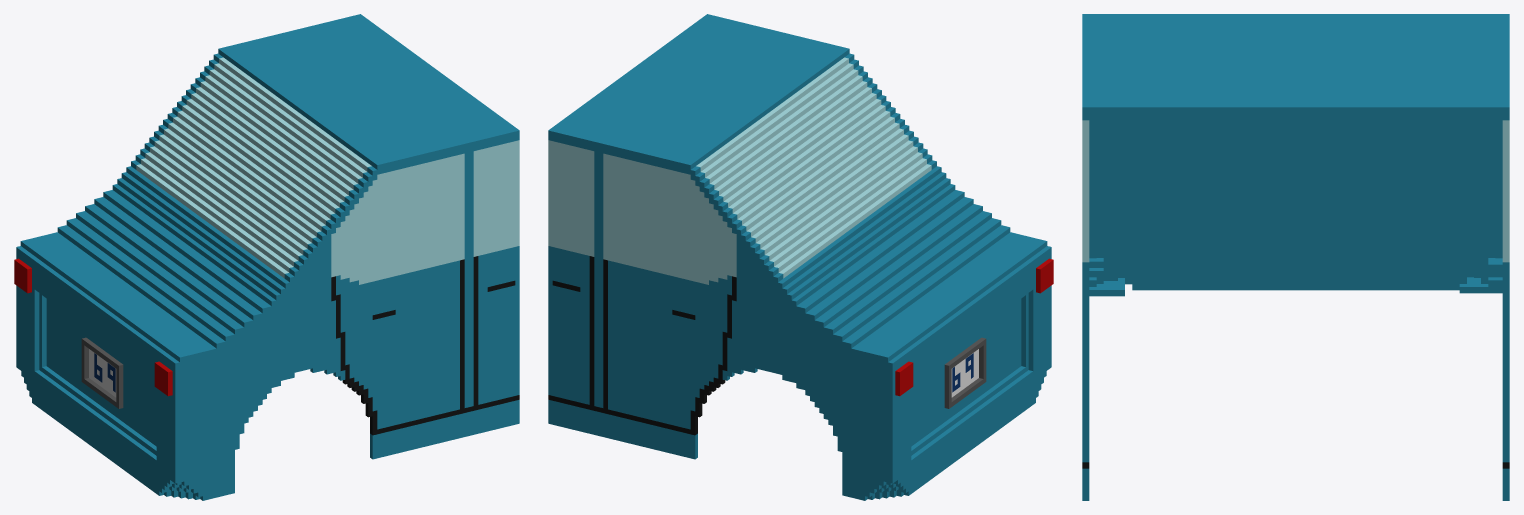
The model's file is Car-0.obj.
The picture shows the model from 3 angles, left to right: view 1: azimuth 30°, elevation 25°; view 2: azimuth 150°, elevation 25°; view 3: azimuth 270°, elevation 25°; orthographic projection. The views are drawn at different scales.
Size of the model in its own units: 7.6 by 6.1 by 6.
Materials: 1 (1 with a texture image).
